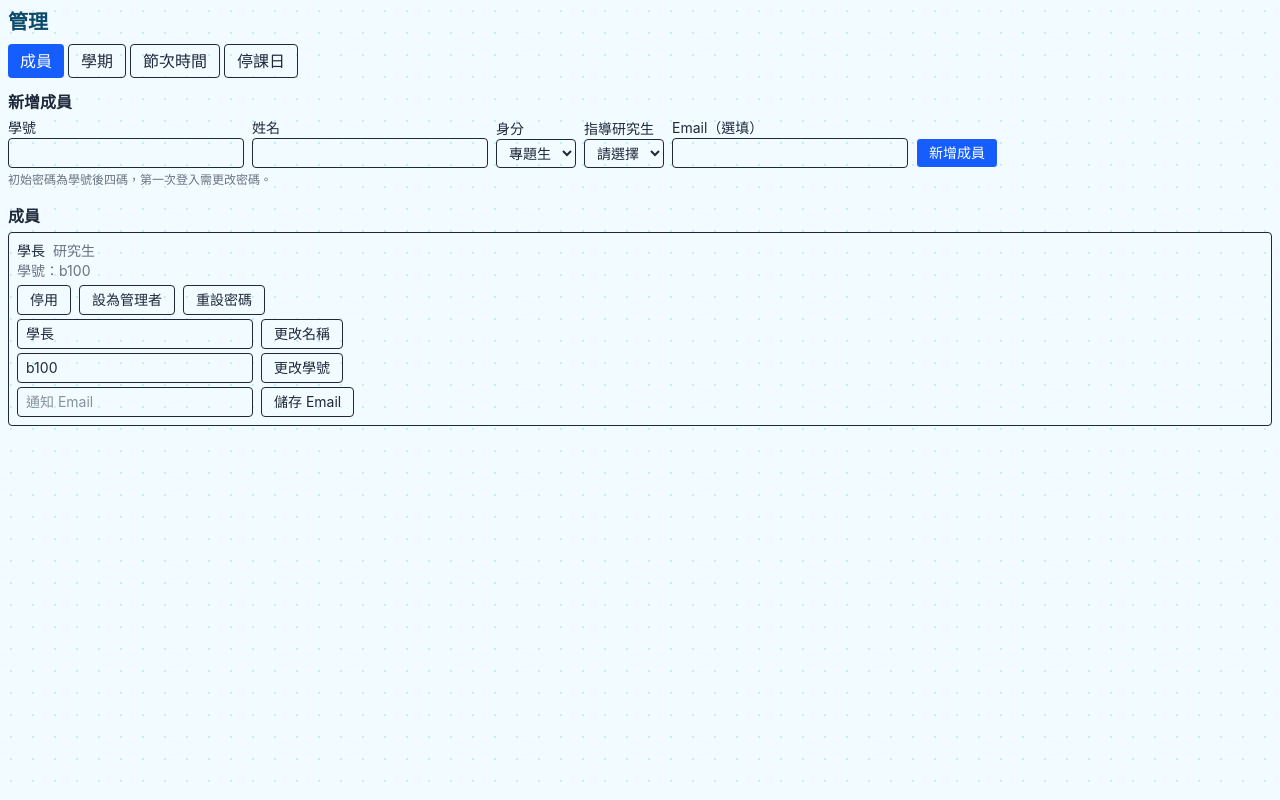
Scenario: AdminPage period times › rejects end <= start and saves nothing
Click the tab "節次時間": [175, 61] box [130,44,220,78]
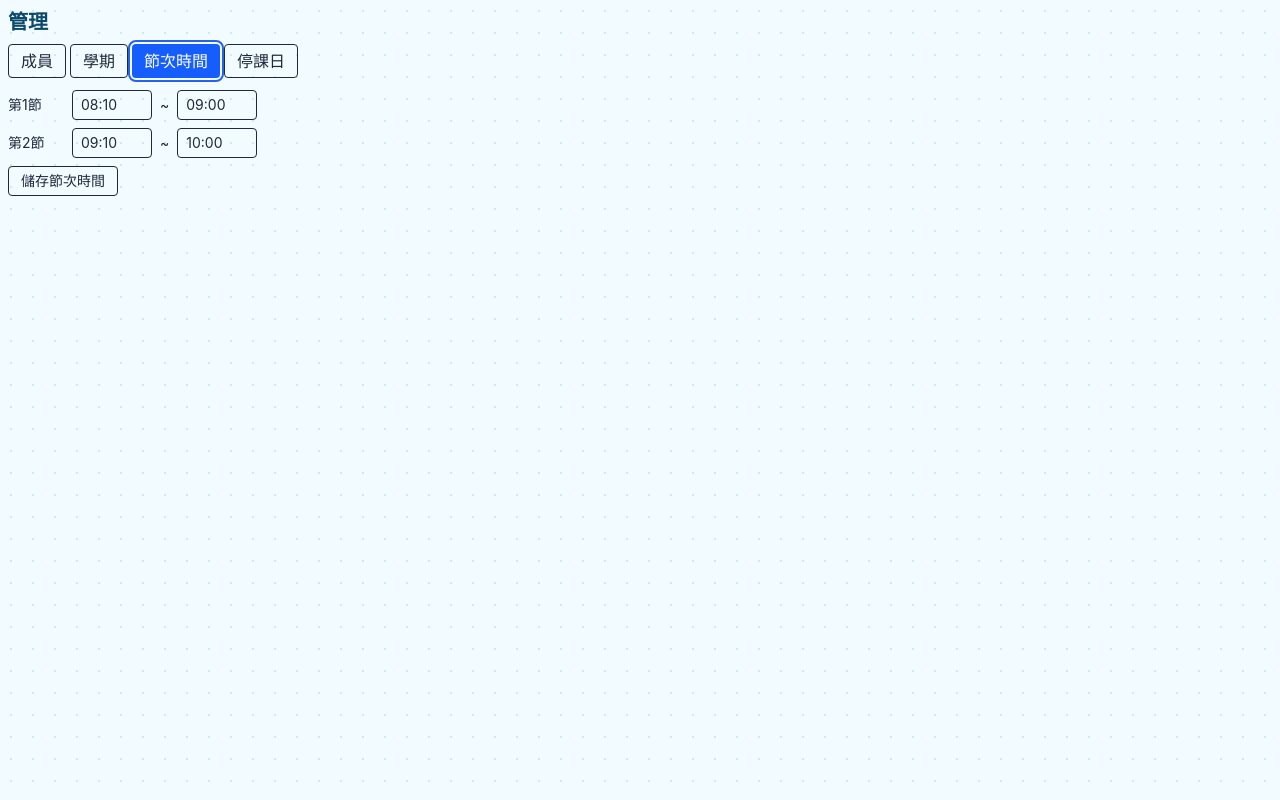
Replace the text in the field named "第2節結束" with "09:10": [217, 143] box [177,128,257,158]
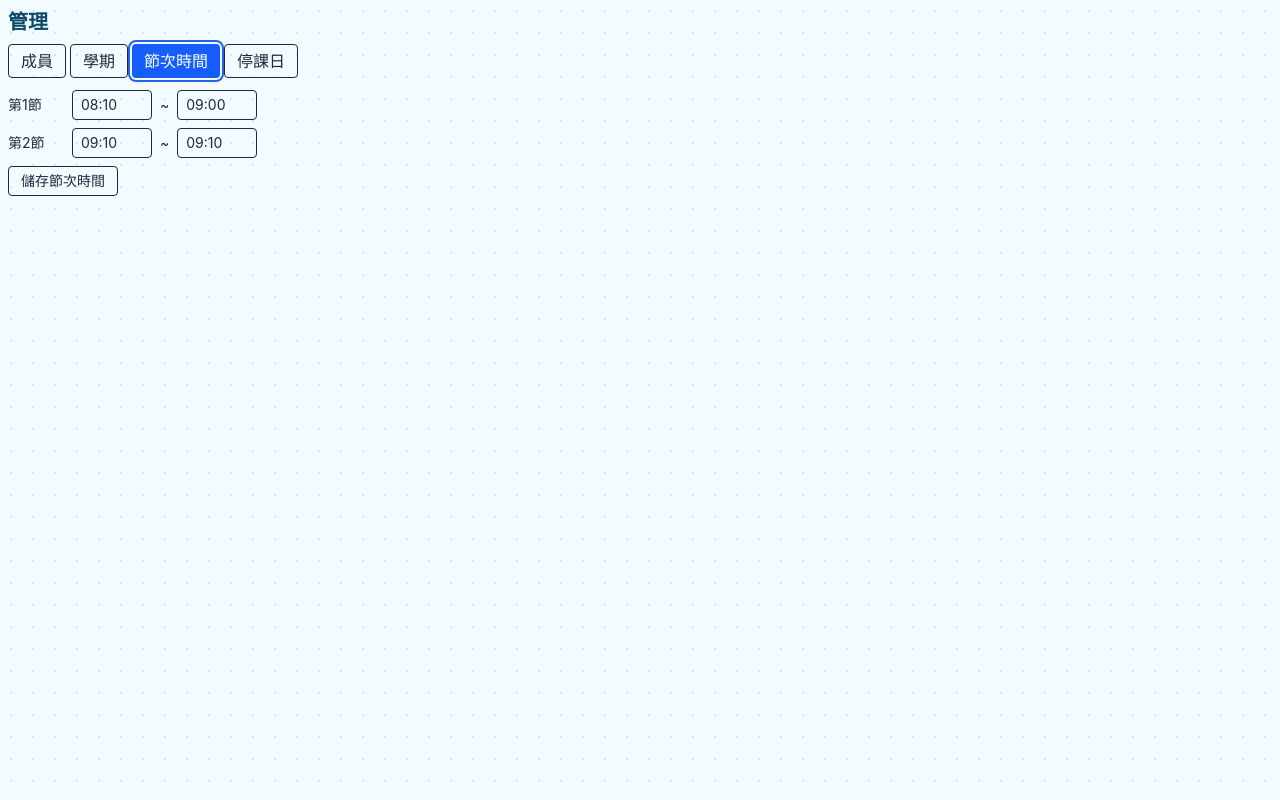
Click the button "儲存節次時間": [63, 181] box [8,166,118,196]
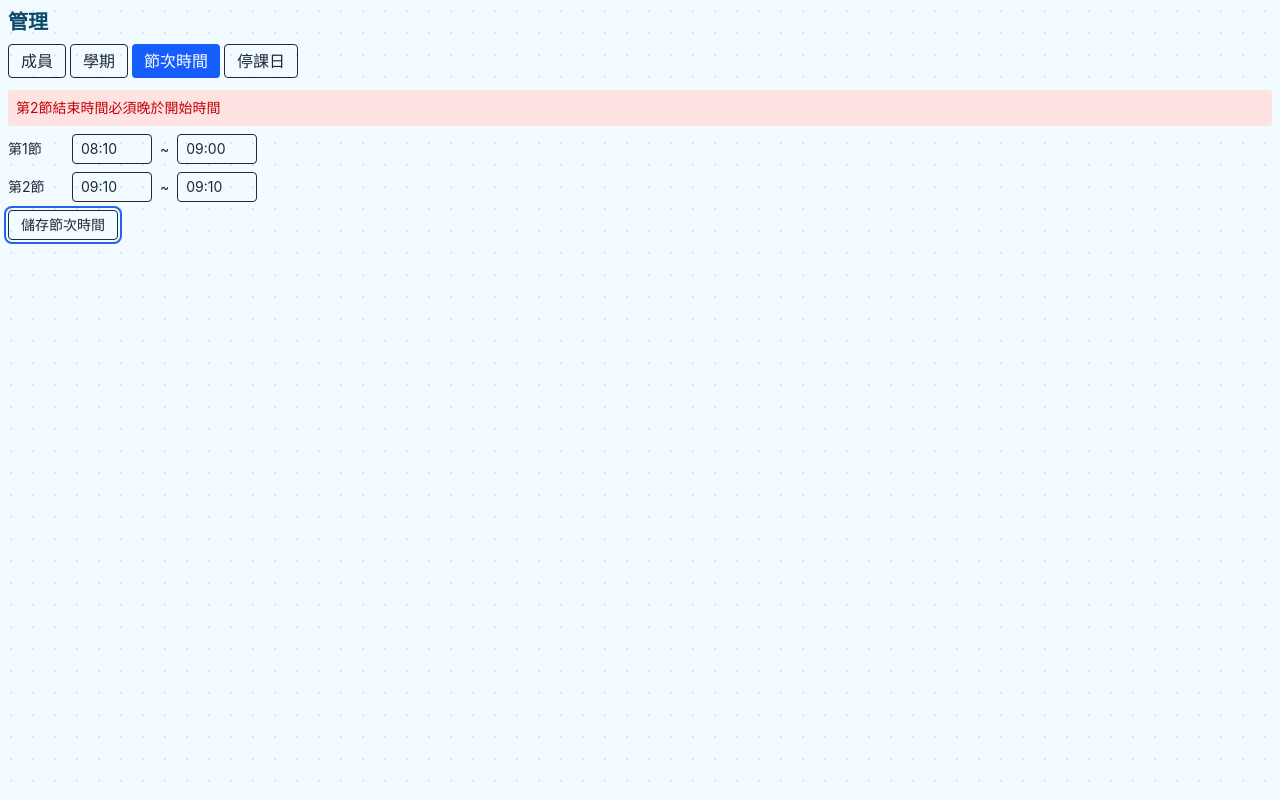
Expected: the message reads "第2節結束時間必須晚於開始時間", [16,99,220,116]
